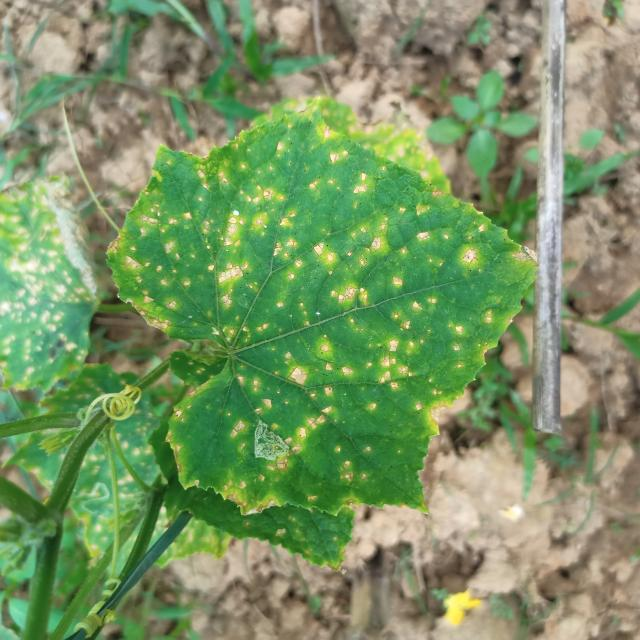disease_cucumber: (127, 122, 506, 494)
